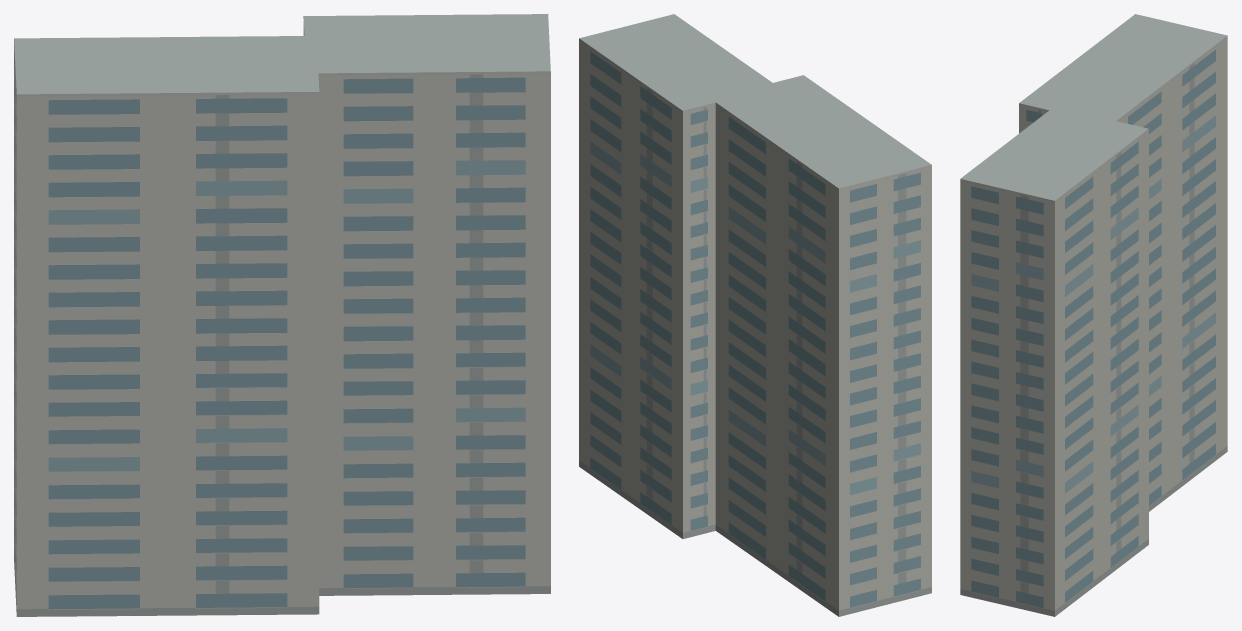
The model's file is residential-0f5c3291-8175-47e5-bb35-14deabc444ae.glb.
3 views of the same model, side by side, from view 1: azimuth 30°, elevation 25°; view 2: azimuth 150°, elevation 25°; view 3: azimuth 270°, elevation 25° (orthographic). The views are drawn at different scales.
Parts seen in each view (by area): view 1: residential-0f5c3291-8175-47e5-bb35-14deabc444ae.tmp; view 2: residential-0f5c3291-8175-47e5-bb35-14deabc444ae.tmp; view 3: residential-0f5c3291-8175-47e5-bb35-14deabc444ae.tmp.
Boxes of the visible parts, left/top/right/bottom form: residential-0f5c3291-8175-47e5-bb35-14deabc444ae.tmp: left=14, top=14, right=550, bottom=616; residential-0f5c3291-8175-47e5-bb35-14deabc444ae.tmp: left=579, top=14, right=931, bottom=616; residential-0f5c3291-8175-47e5-bb35-14deabc444ae.tmp: left=960, top=14, right=1227, bottom=616.
Bounding box in the file's own units: 49.12 × 51 × 29.72.
